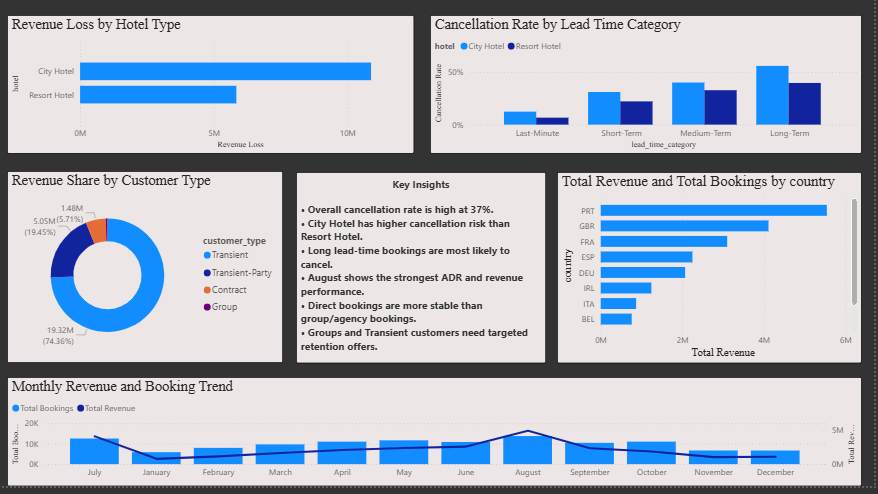

The page's visual inventory and layout, read from the dashboard file:
{"tool":"powerbi","page":{"name":"Page 1","canvas":[1280,720],"ordinal":1},"visuals":[{"type":"clusteredBarChart","title":"Revenue Loss by Hotel Type","fields":{"Category":["cleaned_hotel_bookings.hotel"],"Y":["cleaned_hotel_bookings.Revenue Loss"]},"box":[10.2,30.7,595.6,203.4],"z":0},{"type":"donutChart","title":"Revenue Share by Customer Type","fields":{"Category":["cleaned_hotel_bookings.customer_type"],"Y":["cleaned_hotel_bookings.Total Revenue"]},"box":[10.2,259,403.9,281],"z":1000},{"type":"clusteredColumnChart","title":"Cancellation Rate by Lead Time Category","fields":{"Category":["cleaned_hotel_bookings.lead_time_category"],"Y":["cleaned_hotel_bookings.Cancellation Rate"],"Series":["cleaned_hotel_bookings.hotel"]},"box":[629.3,30.7,632.2,203.4],"z":2000},{"type":"clusteredBarChart","fields":{"Category":["cleaned_hotel_bookings.country"],"Y":["cleaned_hotel_bookings.Total Revenue"]},"box":[815.1,260.5,446.3,279.5],"z":3000},{"type":"lineClusteredColumnComboChart","title":"Monthly Revenue and Booking Trend","fields":{"Category":["cleaned_hotel_bookings.arrival_date_month"],"Y":["cleaned_hotel_bookings.Total Bookings"],"Y2":["cleaned_hotel_bookings.Total Revenue"]},"box":[10.2,560.5,1251.2,159.5],"z":4000},{"type":"textbox","box":[433.2,260.5,365.9,279.5],"z":5000}]}

Visuals, with their boxes in screenshot pixels (x1, y1, x2, y2), scaled from the page's 1280x720 canvas onto the 878x494 screenshot:
"Revenue Loss by Hotel Type" clusteredBarChart: bbox=(7, 21, 416, 161)
"Revenue Share by Customer Type" donutChart: bbox=(7, 178, 284, 370)
"Cancellation Rate by Lead Time Category" clusteredColumnChart: bbox=(432, 21, 865, 161)
clusteredBarChart - cleaned_hotel_bookings.country x cleaned_hotel_bookings.Total Revenue: bbox=(559, 179, 865, 370)
"Monthly Revenue and Booking Trend" lineClusteredColumnComboChart: bbox=(7, 385, 865, 493)
textbox: bbox=(297, 179, 548, 370)
